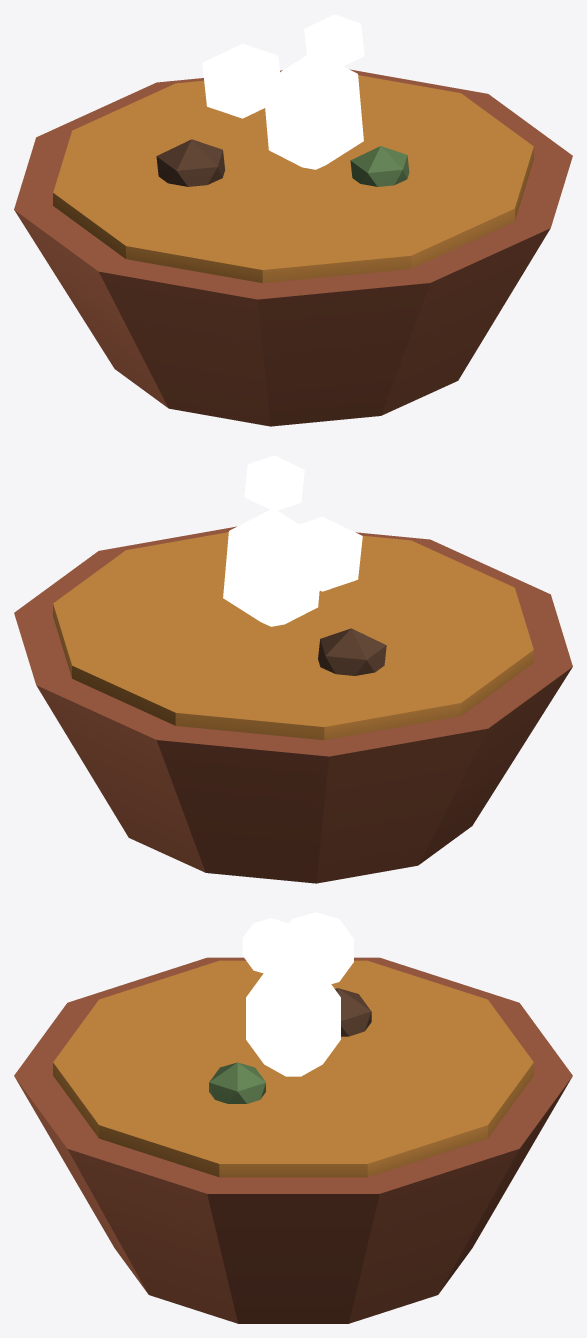
File: heal_soup.glb
The picture shows the model from 3 angles, top to bottom: view 1: azimuth 30°, elevation 25°; view 2: azimuth 150°, elevation 25°; view 3: azimuth 270°, elevation 25°; orthographic projection. The views are drawn at different scales.
Visible parts, largest first — view 1: heal_soup; view 2: heal_soup; view 3: heal_soup.
Part boxes in pixels (bbox=[...]): heal_soup: bbox=[14, 14, 572, 426]; heal_soup: bbox=[14, 455, 572, 883]; heal_soup: bbox=[14, 912, 572, 1323].
Bounding box in the file's own units: 0.5 × 0.35 × 0.5.
